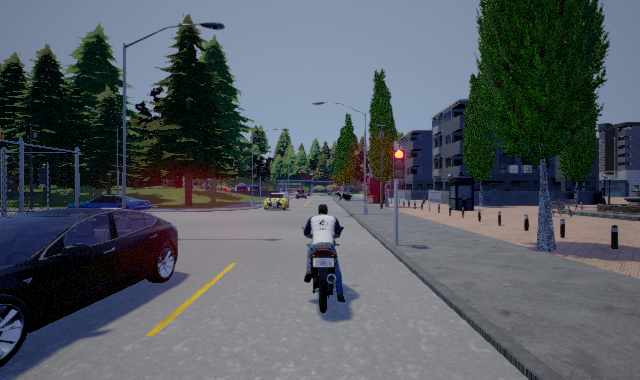motobike: (302, 204, 346, 312)
traffic_light: (392, 147, 404, 178)
vehicle: (1, 207, 177, 365), (68, 194, 153, 210), (264, 193, 289, 210)
